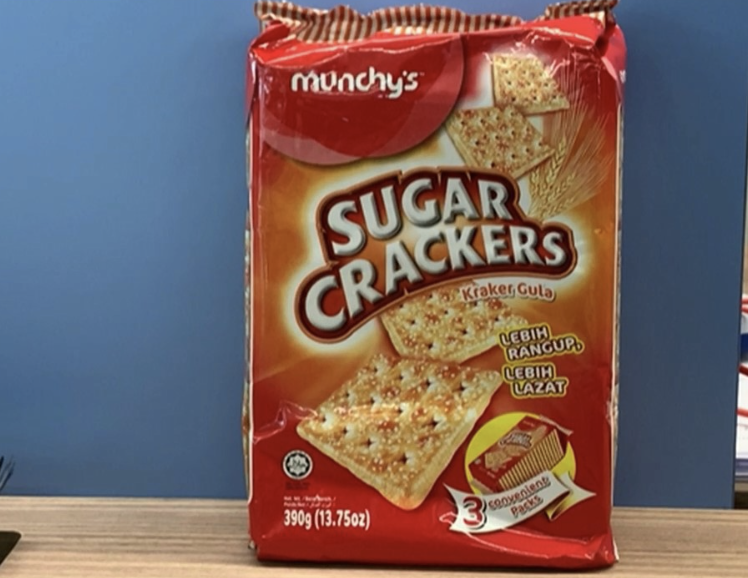crackers_300g-399g: (274, 46, 600, 536)
